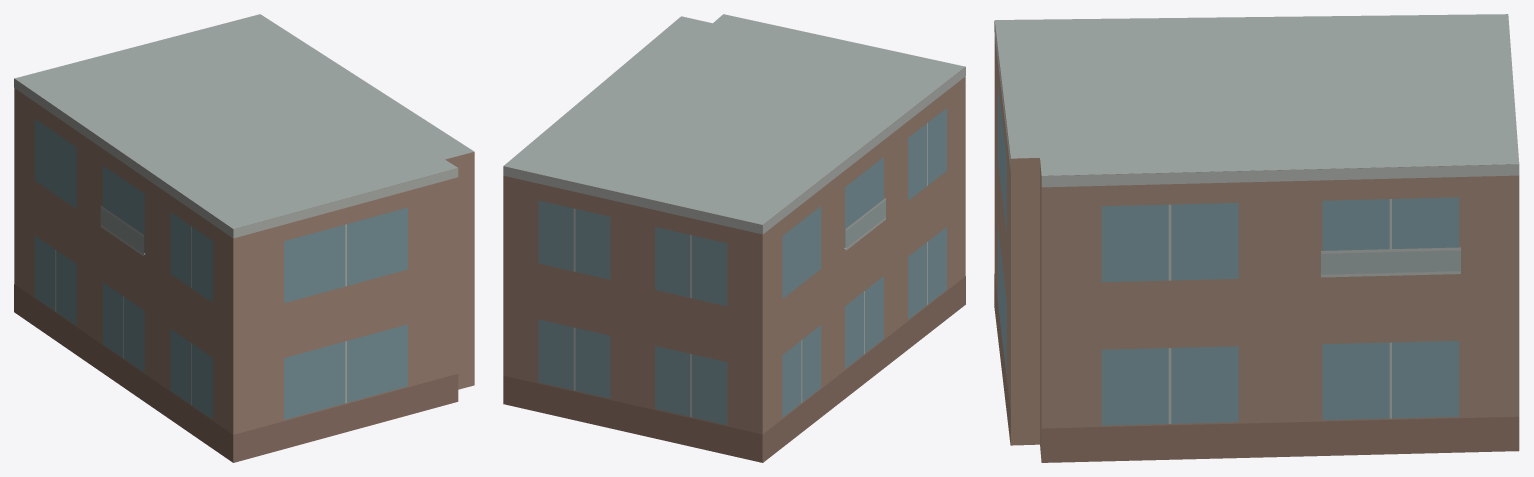
Rendered from survey-upis-32487396.glb.
3 renders of one model, left to right at view 1: azimuth 30°, elevation 25°; view 2: azimuth 150°, elevation 25°; view 3: azimuth 270°, elevation 25°, orthographic. The views are drawn at different scales.
Parts seen in each view (by area): view 1: survey-upis-32487396.tmp; view 2: survey-upis-32487396.tmp; view 3: survey-upis-32487396.tmp.
Part boxes in pixels (<box>): survey-upis-32487396.tmp: <box>14,14,474,462</box>; survey-upis-32487396.tmp: <box>503,14,965,462</box>; survey-upis-32487396.tmp: <box>994,14,1519,462</box>.
Size of the model in its own units: 7.39 by 6.1 by 10.12.
